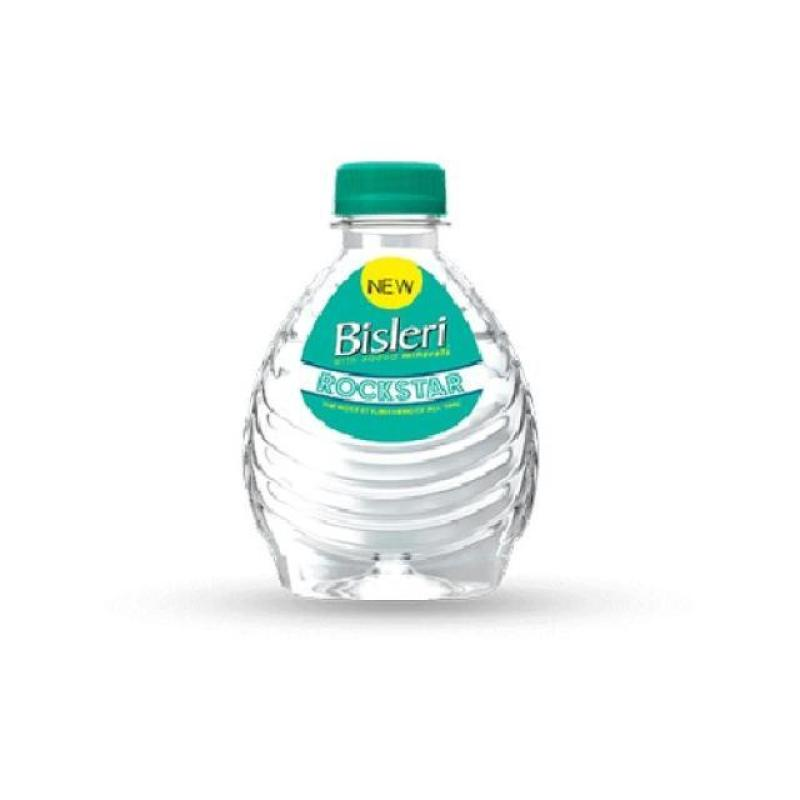botella: (246, 158, 536, 603)
